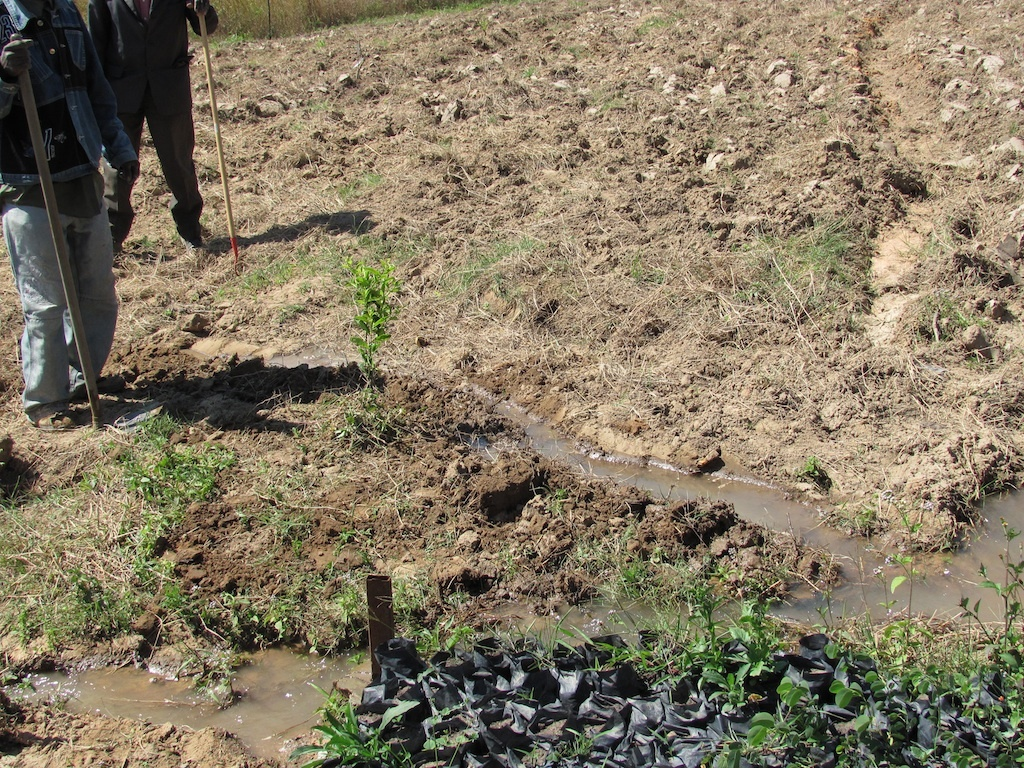Person: (0, 0, 140, 430), (102, 0, 219, 258)
